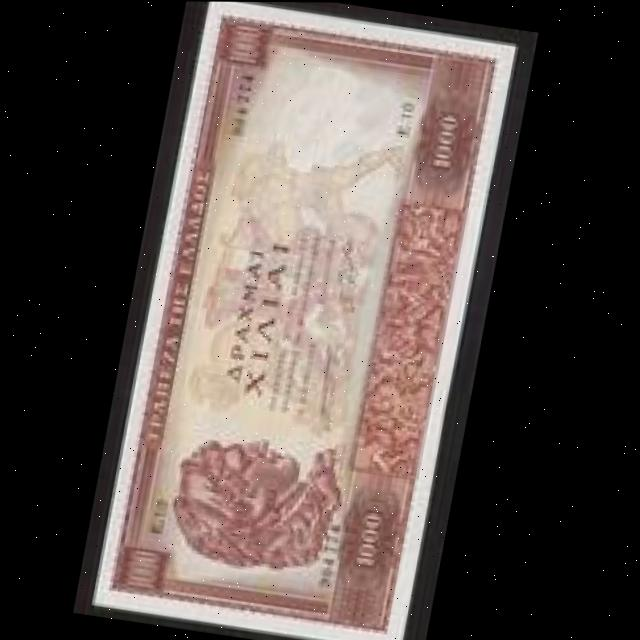banknote: (93, 1, 517, 640), (410, 95, 489, 189), (339, 489, 415, 577), (212, 11, 281, 91), (117, 529, 189, 604)
